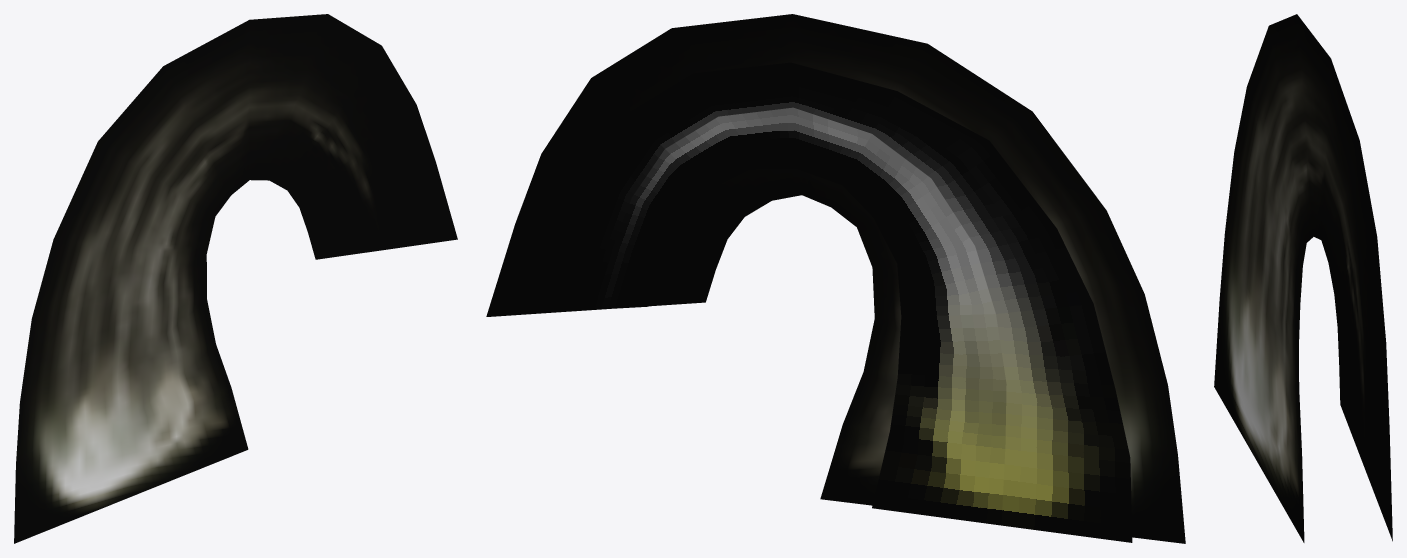
The model's file is effect_xiahoudun_self_3.FBX.
The picture shows the model from 3 angles, left to right: view 1: azimuth 30°, elevation 25°; view 2: azimuth 150°, elevation 25°; view 3: azimuth 270°, elevation 25°; orthographic projection. The views are drawn at different scales.
Parts seen in each view (by area): view 1: effect_xiahoudun_self_3_1; view 2: effect_xiahoudun_self_3_2, effect_xiahoudun_self_3_1; view 3: effect_xiahoudun_self_3_1.
Boxes of the visible parts, x1,y1,x2,y2 form: effect_xiahoudun_self_3_1: (14, 14, 457, 543); effect_xiahoudun_self_3_2: (545, 62, 1132, 542); effect_xiahoudun_self_3_1: (486, 14, 1185, 543); effect_xiahoudun_self_3_1: (1214, 14, 1392, 542).
Size of the model in its own units: 422 by 325 by 107.
